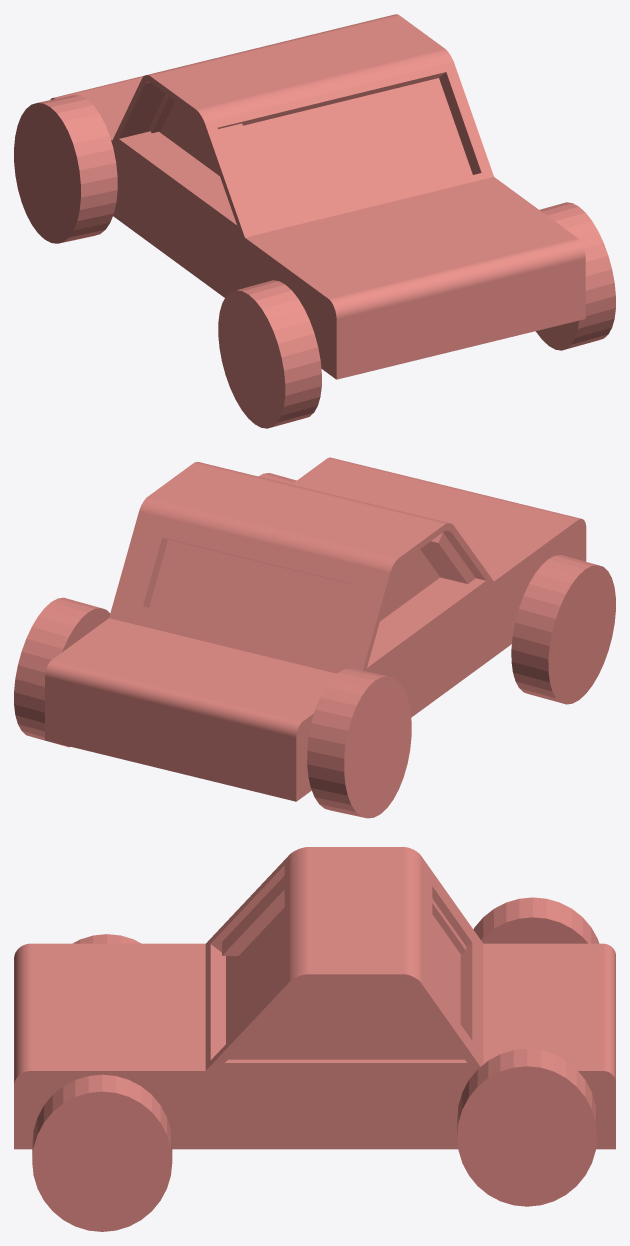
Rendered from Car Design.fbx.
3 views of the same model, one above another, from view 1: azimuth 30°, elevation 25°; view 2: azimuth 150°, elevation 25°; view 3: azimuth 270°, elevation 25° (orthographic). The views are drawn at different scales.
Visible parts, largest first — view 1: Cube; view 2: Cube; view 3: Cube.
Boxes of the visible parts, x1,y1,x2,y2 form: Cube: (14,14,615,428); Cube: (14,457,615,818); Cube: (14,847,615,1231).
Size of the model in its own units: 460 by 307 by 681.
